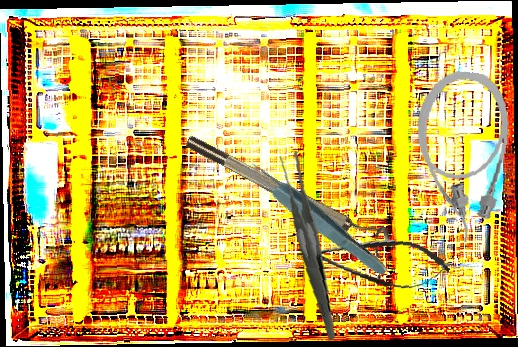Cannula: (405, 67, 516, 246)
Dressing Forceps: (263, 149, 352, 341)
Fixation Ring: (182, 123, 396, 259)
Micro Scissor: (294, 227, 453, 296)
Tissue Forceps: (240, 154, 393, 282)
